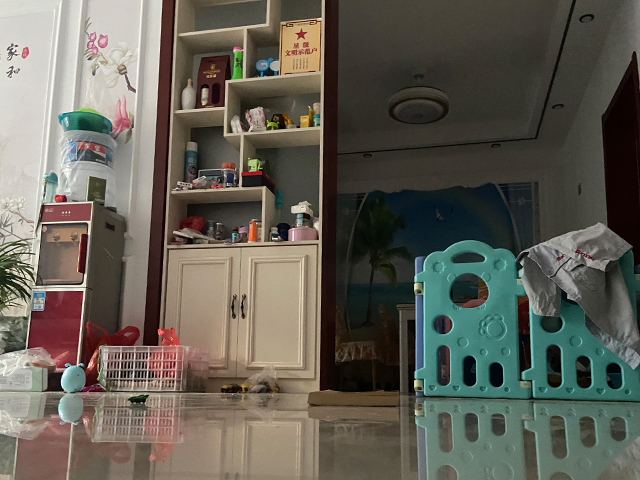book: (307, 389, 401, 407)
cabinet: (141, 237, 325, 394)
stool: (335, 305, 379, 387), (375, 304, 415, 389)
